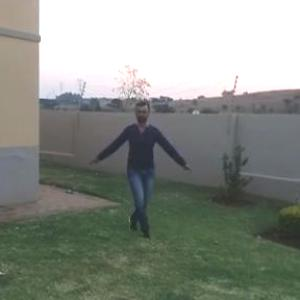land: (94, 90, 195, 241)
